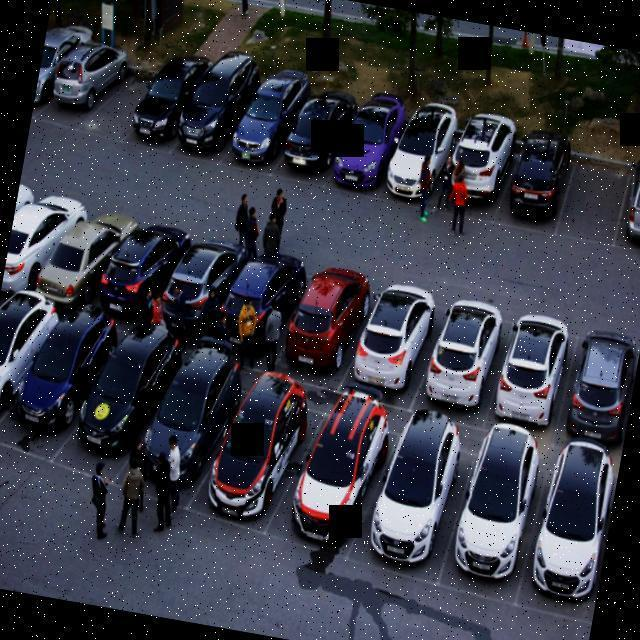car: (170, 355, 344, 536), (42, 314, 201, 492), (348, 398, 498, 586), (254, 385, 414, 557), (418, 417, 564, 604), (114, 341, 268, 514), (498, 432, 622, 626), (0, 292, 130, 463), (137, 205, 256, 358), (197, 228, 318, 374), (398, 285, 516, 433), (332, 270, 453, 414), (261, 249, 381, 392), (79, 194, 197, 338), (109, 36, 218, 178), (22, 186, 134, 324), (477, 296, 583, 431), (542, 315, 640, 460), (158, 50, 266, 170), (216, 52, 316, 178), (28, 31, 134, 148), (428, 100, 526, 226), (369, 94, 470, 216), (0, 178, 92, 306), (264, 75, 360, 197), (322, 81, 414, 201), (484, 128, 576, 245), (31, 9, 102, 128), (575, 453, 621, 625), (602, 150, 640, 257)
free: (64, 46, 168, 164), (546, 144, 634, 253)
